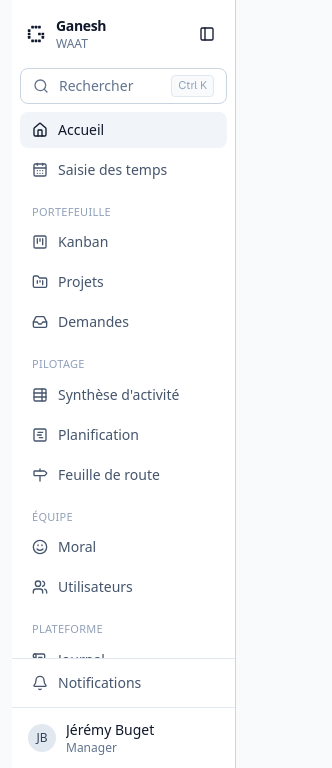
AppSidebar › keeps the labels readable to screen readers once folded
Click the button named "Replier la barre latérale" at (207, 34), box [191,18,223,50]
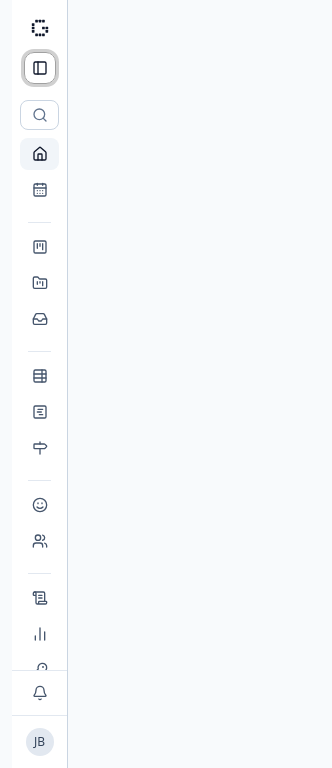
Check: the link named "Saisie des temps" is shown, box [20,174,59,206]
Check: the heading "Pilotage" is gone
